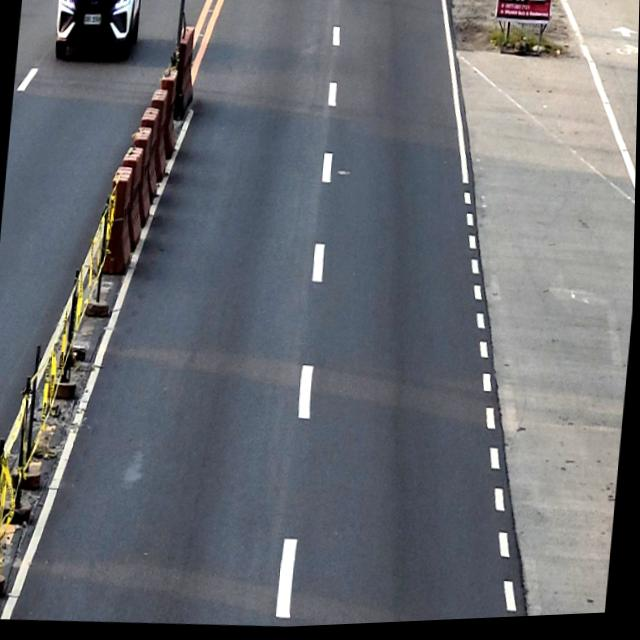Car: (52, 0, 142, 66)
License-Plate: (83, 14, 101, 27)
